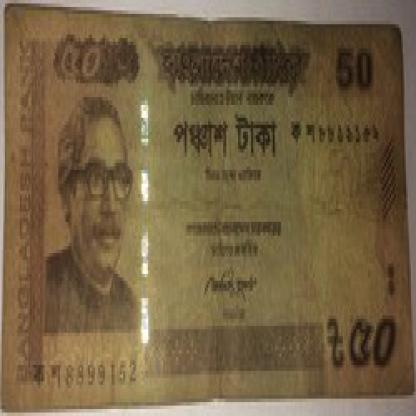Fifty taka: (322, 305, 400, 374), (46, 35, 115, 90)
